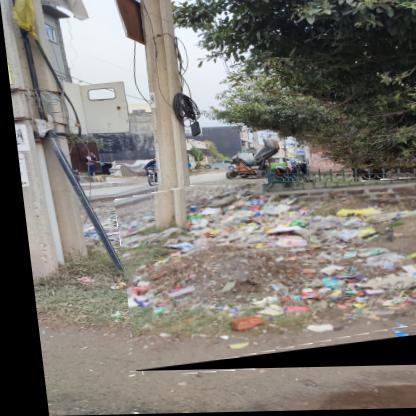Garbage: (110, 182, 416, 374)
